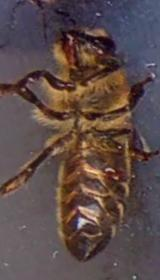varroa_mite: (95, 156, 134, 190)
